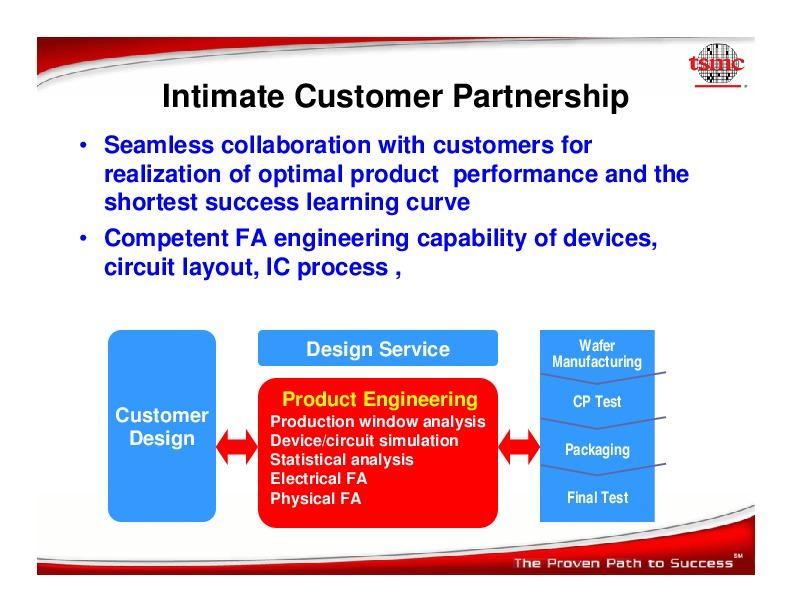paragraph: (90, 126, 712, 281)
subtitle: (503, 547, 755, 580)
title: (158, 79, 631, 119)
